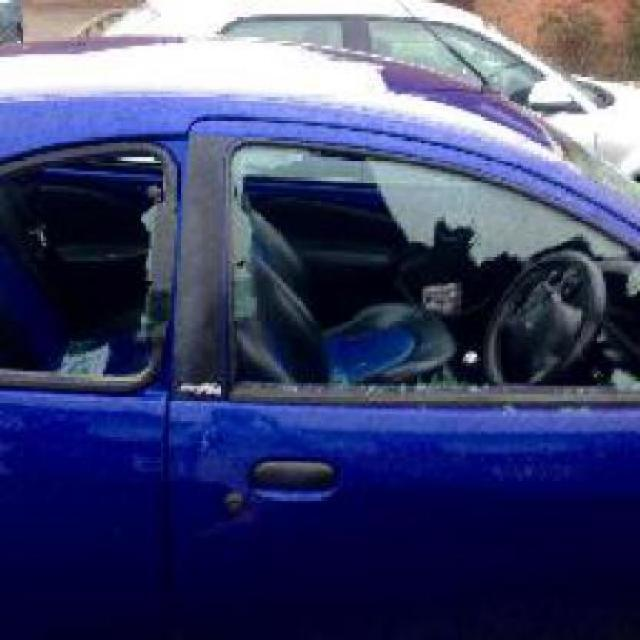damaged-window: (208, 132, 638, 412), (0, 120, 180, 397)
